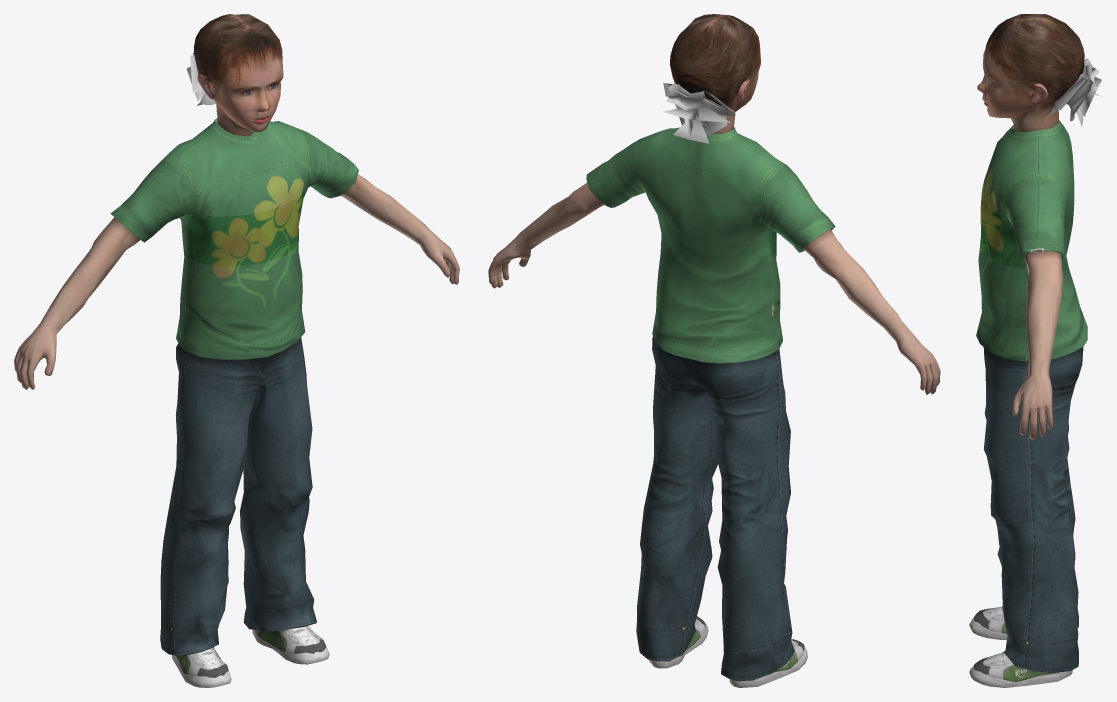
The model's file is child girl02.fbx.
3 renders of one model, left to right at view 1: azimuth 30°, elevation 25°; view 2: azimuth 150°, elevation 25°; view 3: azimuth 270°, elevation 25°, orthographic.
Parts seen in each view (by area): view 1: child02_f_highpoly; view 2: child02_f_highpoly; view 3: child02_f_highpoly.
Boxes of the visible parts, x1,y1,x2,y2 form: child02_f_highpoly: [14, 14, 459, 687]; child02_f_highpoly: [488, 14, 940, 687]; child02_f_highpoly: [969, 14, 1101, 687].
Size of the model in its own units: 103 by 144 by 27.34.
